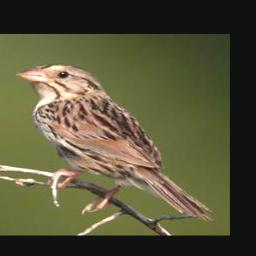Sparrow: (15, 61, 209, 220)
